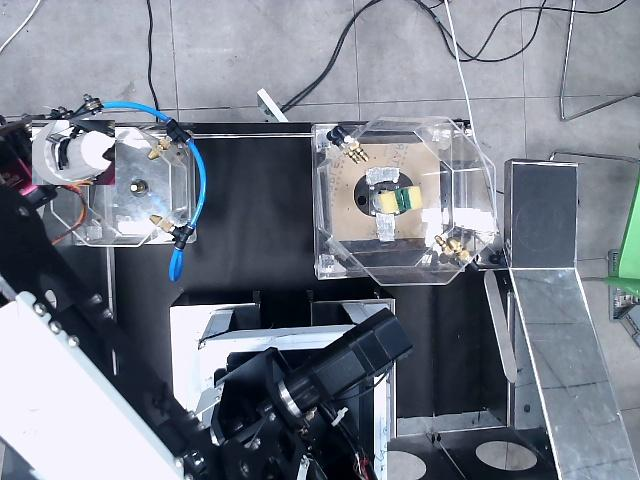cup: (32, 120, 115, 185)
